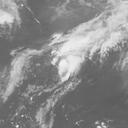cyclone: (52, 37, 82, 80)
